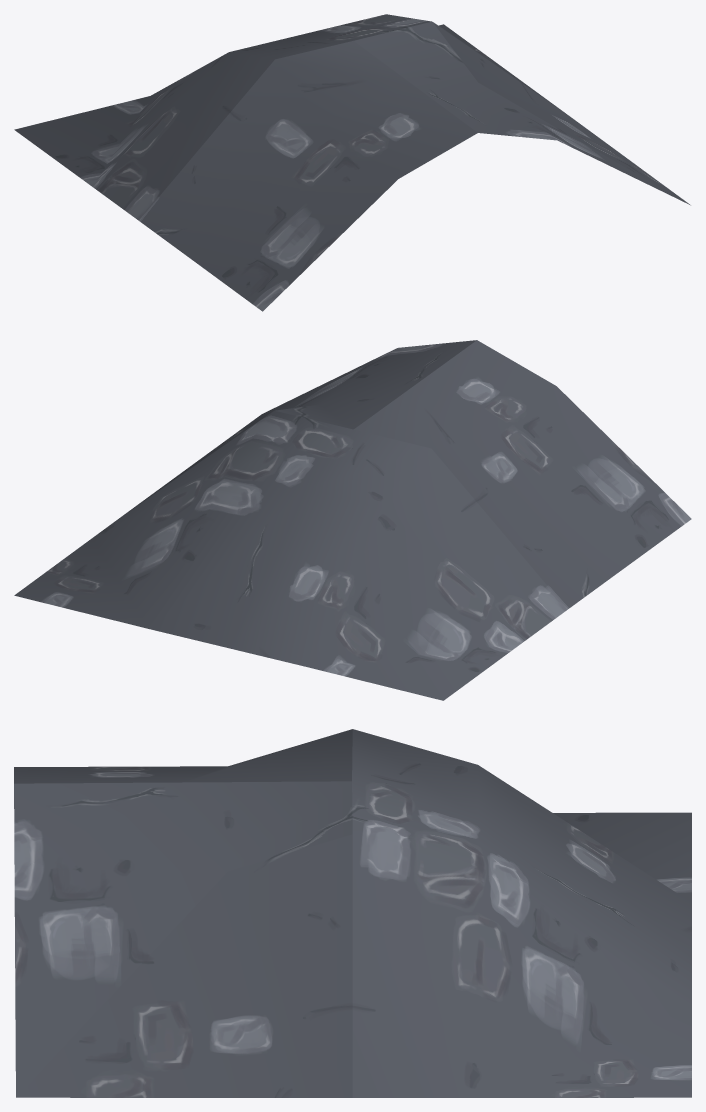
Rendered from Techo_2.fbx.
3 renders of one model, top to bottom at view 1: azimuth 30°, elevation 25°; view 2: azimuth 150°, elevation 25°; view 3: azimuth 270°, elevation 25°, orthographic. The views are drawn at different scales.
Parts seen in each view (by area): view 1: Techo_1; view 2: Techo_1; view 3: Techo_1.
Part boxes in pixels (x1,y1,x2,y2): Techo_1: [14, 14, 690, 311]; Techo_1: [14, 340, 691, 700]; Techo_1: [14, 729, 691, 1097].
Size of the model in its own units: 14.01 by 3.99 by 14.04.
